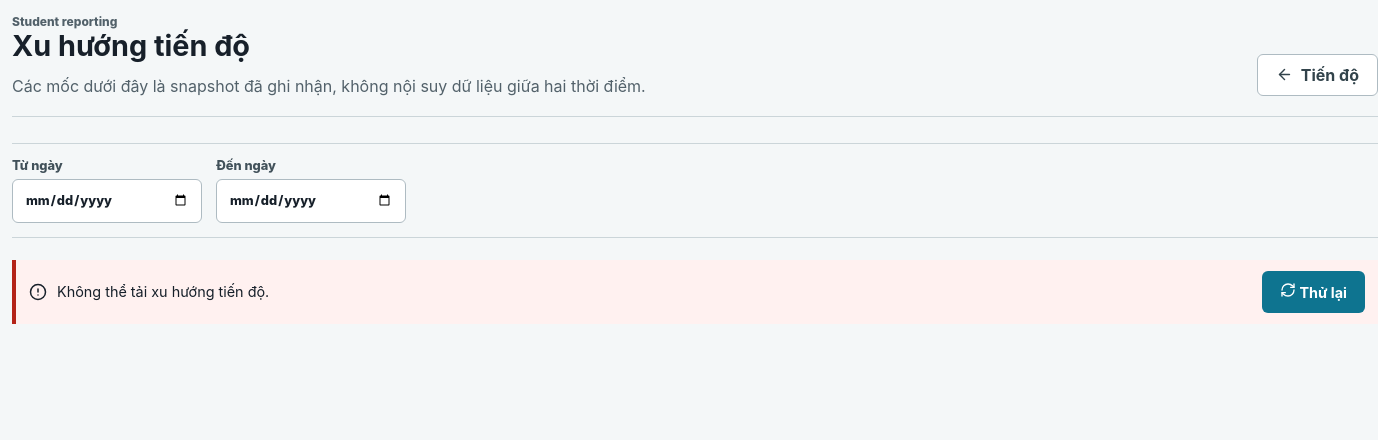
Test: Phase 06 conditional reporting Web › clears trend data on failure and executes an explicit retry
Expected: the message shows "Không thể tải xu hướng tiến độ", [57,283,269,300]
Click the button "Thử lại" at (1314, 292), box [1262,270,1365,312]
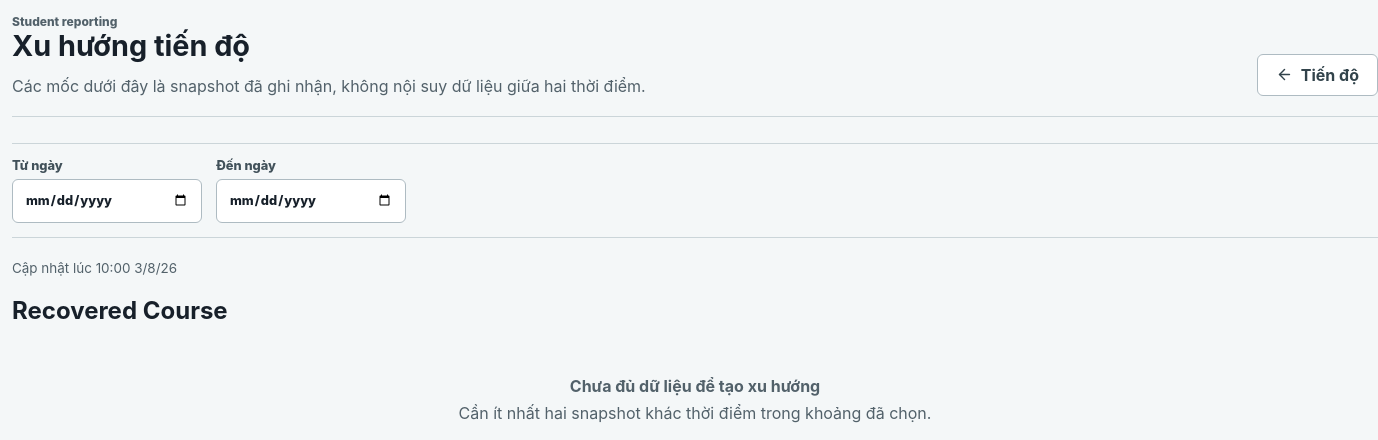
Expected: the heading "Recovered Course" is shown, [12,296,228,324]
